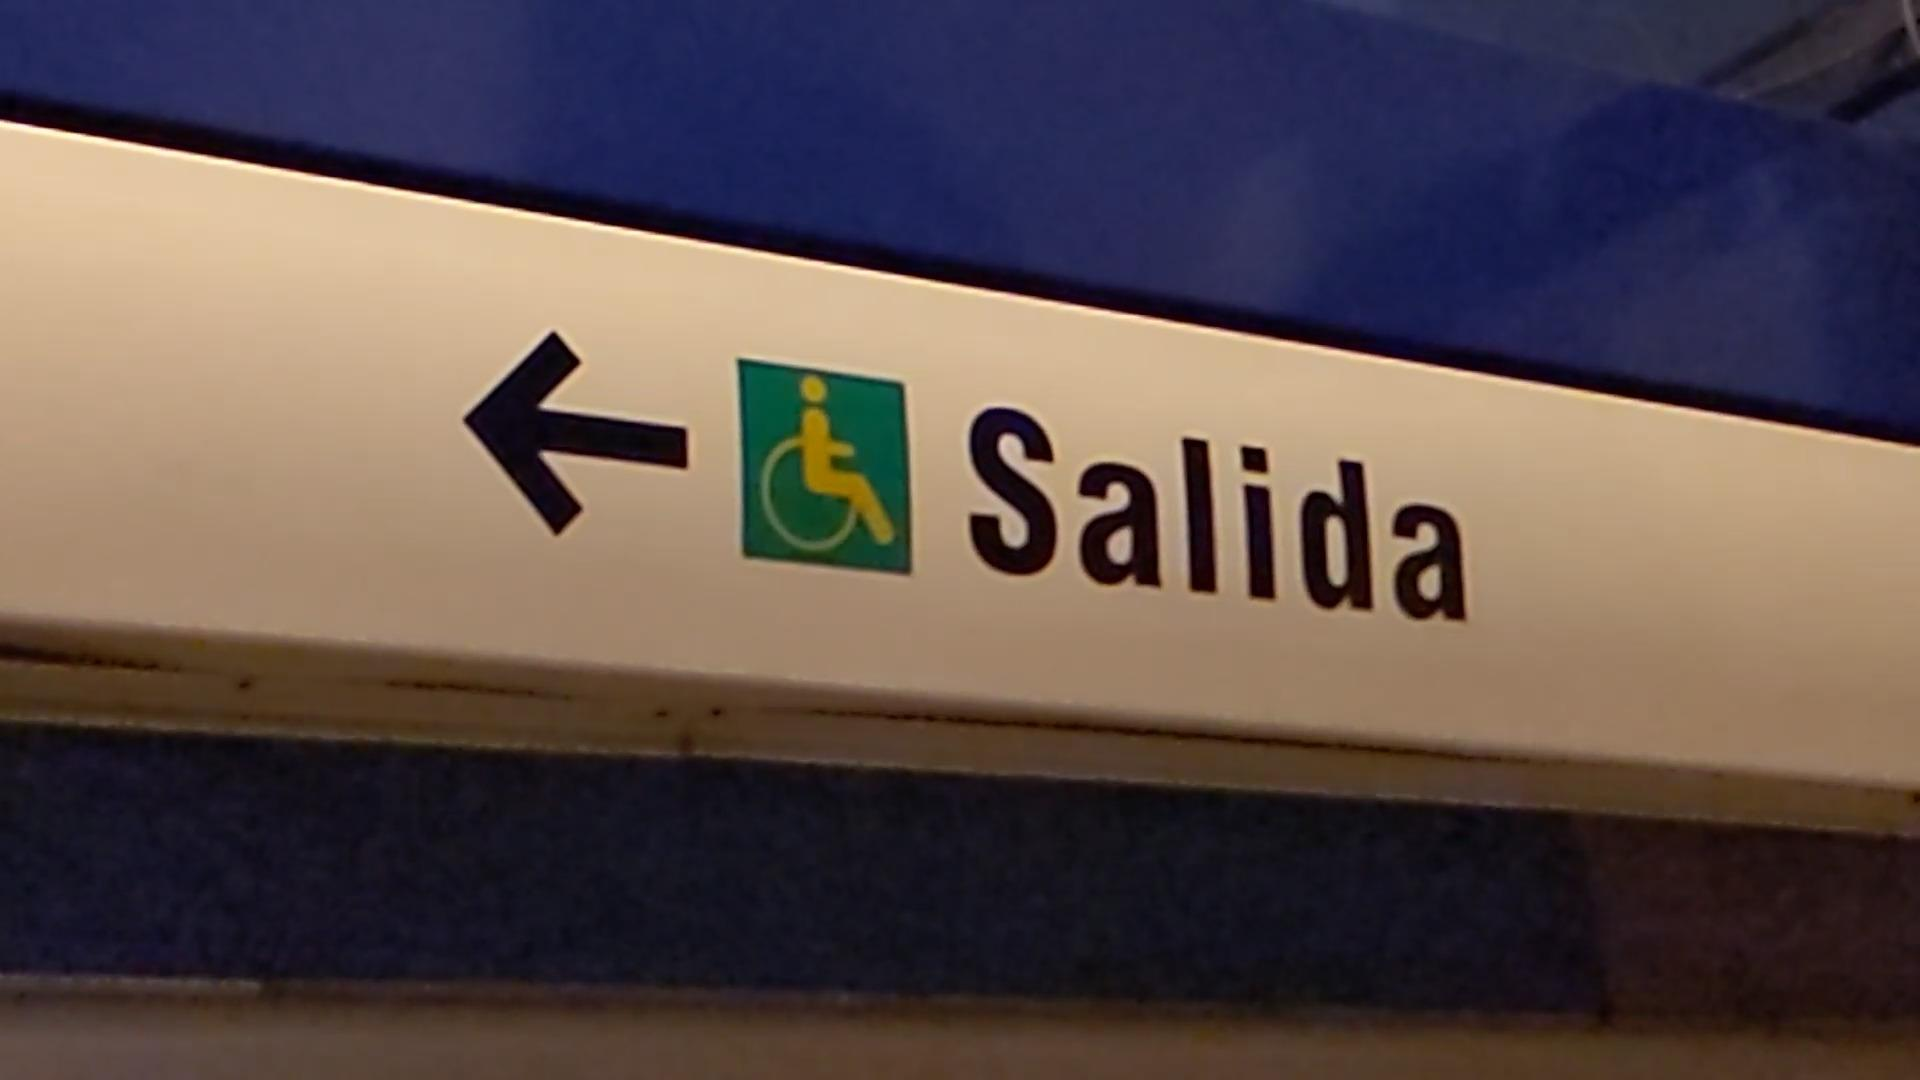handicapped symbol: (757, 368, 901, 558)
left arrow: (448, 320, 694, 547)
